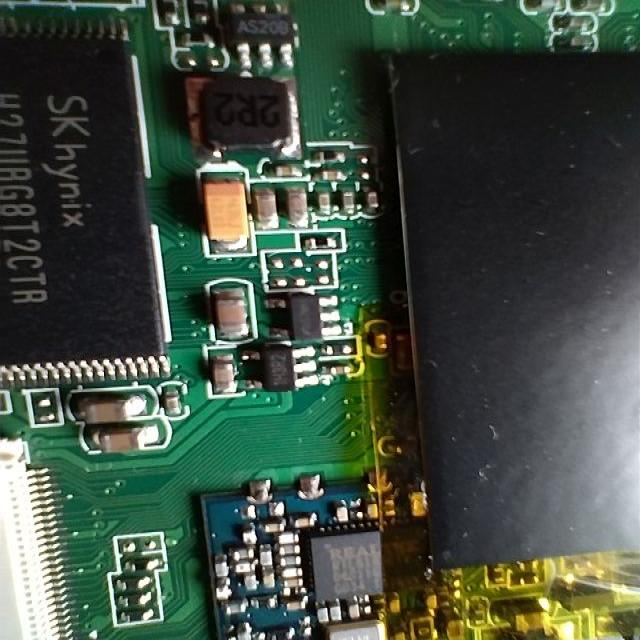capacitor: (66, 383, 138, 425), (202, 283, 255, 339), (206, 356, 246, 400), (254, 185, 278, 234), (285, 186, 311, 230), (294, 512, 326, 541), (95, 435, 144, 452), (319, 192, 336, 212)
resistor: (126, 554, 159, 573), (304, 235, 346, 248), (121, 612, 158, 626)
